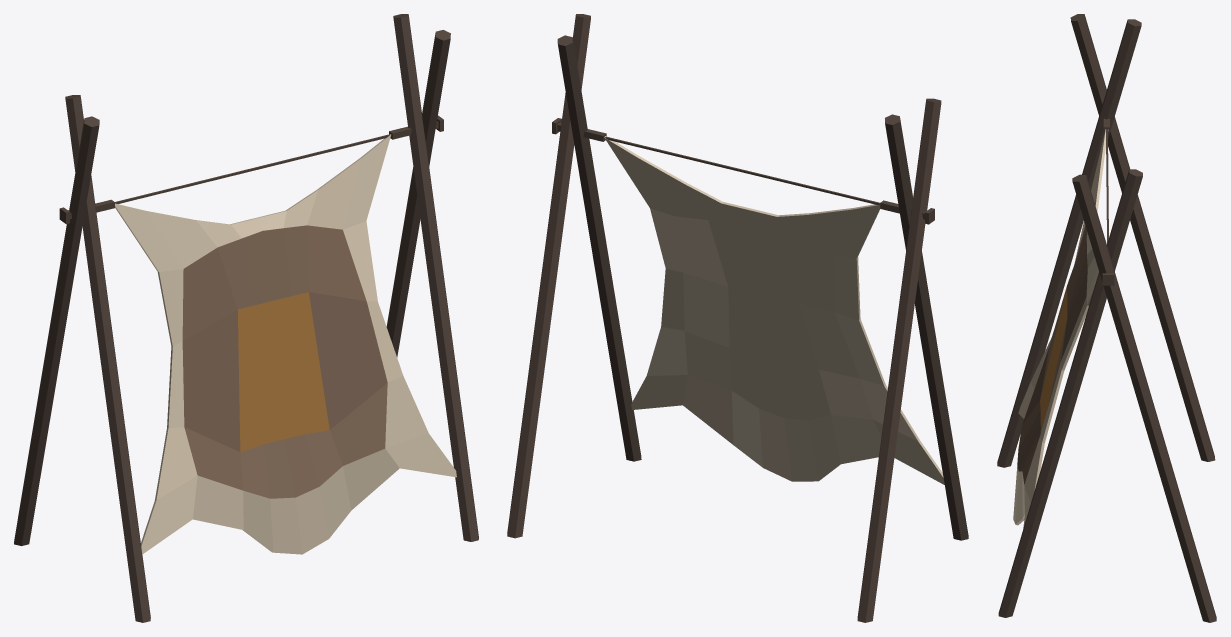
The model's file is Drying_skins_2.fbx.
3 renders of one model, left to right at view 1: azimuth 30°, elevation 25°; view 2: azimuth 150°, elevation 25°; view 3: azimuth 270°, elevation 25°, orthographic. The views are drawn at different scales.
Visible parts, largest first — view 1: Drying_skins_2; view 2: Drying_skins_2; view 3: Drying_skins_2.
Boxes of the visible parts, box(x1,y1,x2,y2) form: Drying_skins_2: box(14, 14, 478, 622); Drying_skins_2: box(507, 14, 968, 622); Drying_skins_2: box(997, 14, 1216, 622).
Bounding box in the file's own units: 140 × 74.87 × 167.
